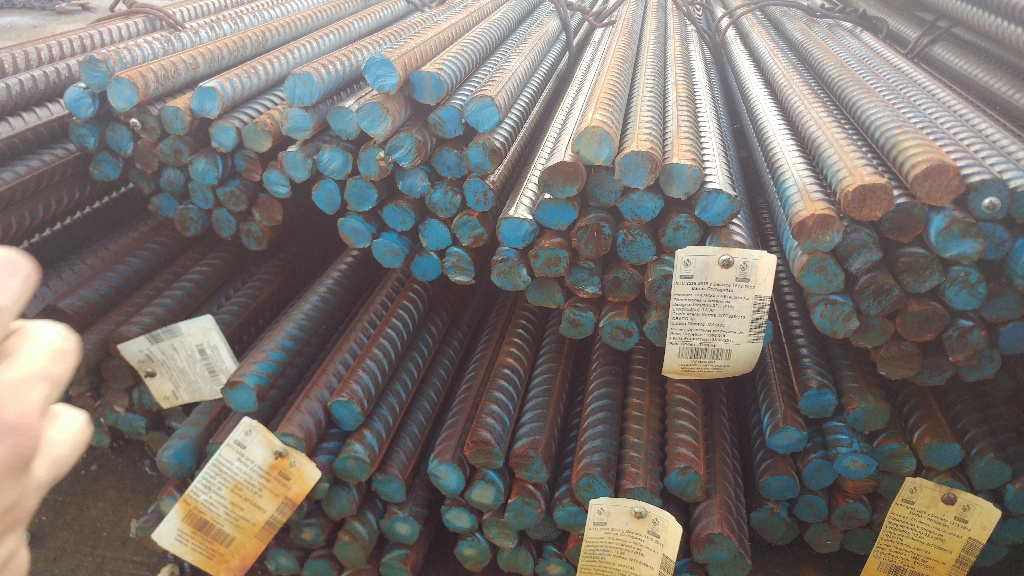dipstick: (929, 210, 988, 267), (938, 267, 997, 312), (790, 253, 850, 297), (811, 295, 864, 343), (909, 161, 966, 205), (899, 300, 957, 343), (893, 247, 944, 295), (851, 273, 904, 319), (749, 506, 804, 550), (842, 182, 899, 224), (564, 467, 618, 509), (944, 317, 990, 366), (836, 230, 885, 273), (690, 526, 740, 568), (796, 211, 847, 252), (616, 148, 664, 191), (485, 251, 534, 293), (764, 420, 819, 457), (919, 433, 969, 473), (876, 343, 929, 380), (361, 47, 404, 92), (571, 124, 617, 166), (569, 216, 616, 257), (795, 380, 842, 421), (757, 469, 809, 506), (968, 176, 1012, 219), (659, 158, 704, 200), (881, 203, 929, 242), (459, 138, 508, 176), (460, 92, 504, 134), (539, 161, 587, 199), (871, 440, 919, 478), (974, 449, 1012, 497), (354, 99, 394, 144), (463, 435, 513, 471), (376, 510, 427, 545), (431, 461, 474, 502), (104, 73, 145, 115), (667, 464, 709, 505), (697, 187, 741, 226), (496, 210, 540, 249), (850, 399, 895, 437), (615, 190, 664, 224), (61, 83, 104, 121), (510, 447, 553, 485), (533, 196, 581, 230), (363, 235, 409, 270), (607, 264, 646, 305), (387, 131, 429, 169), (450, 539, 495, 574), (800, 454, 840, 493), (439, 247, 480, 285), (323, 392, 364, 430), (370, 470, 412, 507), (802, 521, 848, 554), (479, 515, 523, 549), (326, 452, 374, 483), (435, 502, 483, 533), (344, 174, 381, 214), (333, 213, 373, 250), (415, 212, 452, 252), (223, 378, 264, 414), (154, 445, 201, 476), (282, 69, 323, 104), (409, 68, 447, 105), (216, 179, 257, 213), (188, 83, 226, 119), (426, 104, 464, 140), (154, 101, 190, 138), (458, 176, 495, 212), (559, 304, 597, 339), (262, 547, 307, 576), (550, 502, 592, 533), (521, 278, 564, 308), (326, 106, 361, 142), (76, 54, 110, 91), (235, 221, 273, 254), (322, 488, 361, 520), (289, 522, 333, 550), (64, 121, 101, 154), (171, 205, 207, 238), (502, 498, 546, 525), (157, 138, 195, 169), (336, 532, 374, 563), (247, 197, 287, 226), (260, 170, 297, 201), (131, 140, 164, 173), (240, 120, 274, 152), (408, 253, 442, 285), (107, 126, 142, 157), (382, 203, 418, 233), (378, 549, 423, 573), (496, 549, 535, 576), (189, 153, 221, 185), (278, 109, 311, 140), (204, 209, 235, 242), (208, 118, 240, 149), (395, 173, 436, 197), (834, 500, 869, 528), (797, 495, 831, 523), (1000, 320, 1024, 359), (118, 413, 152, 440), (92, 151, 120, 181), (158, 169, 190, 194)
